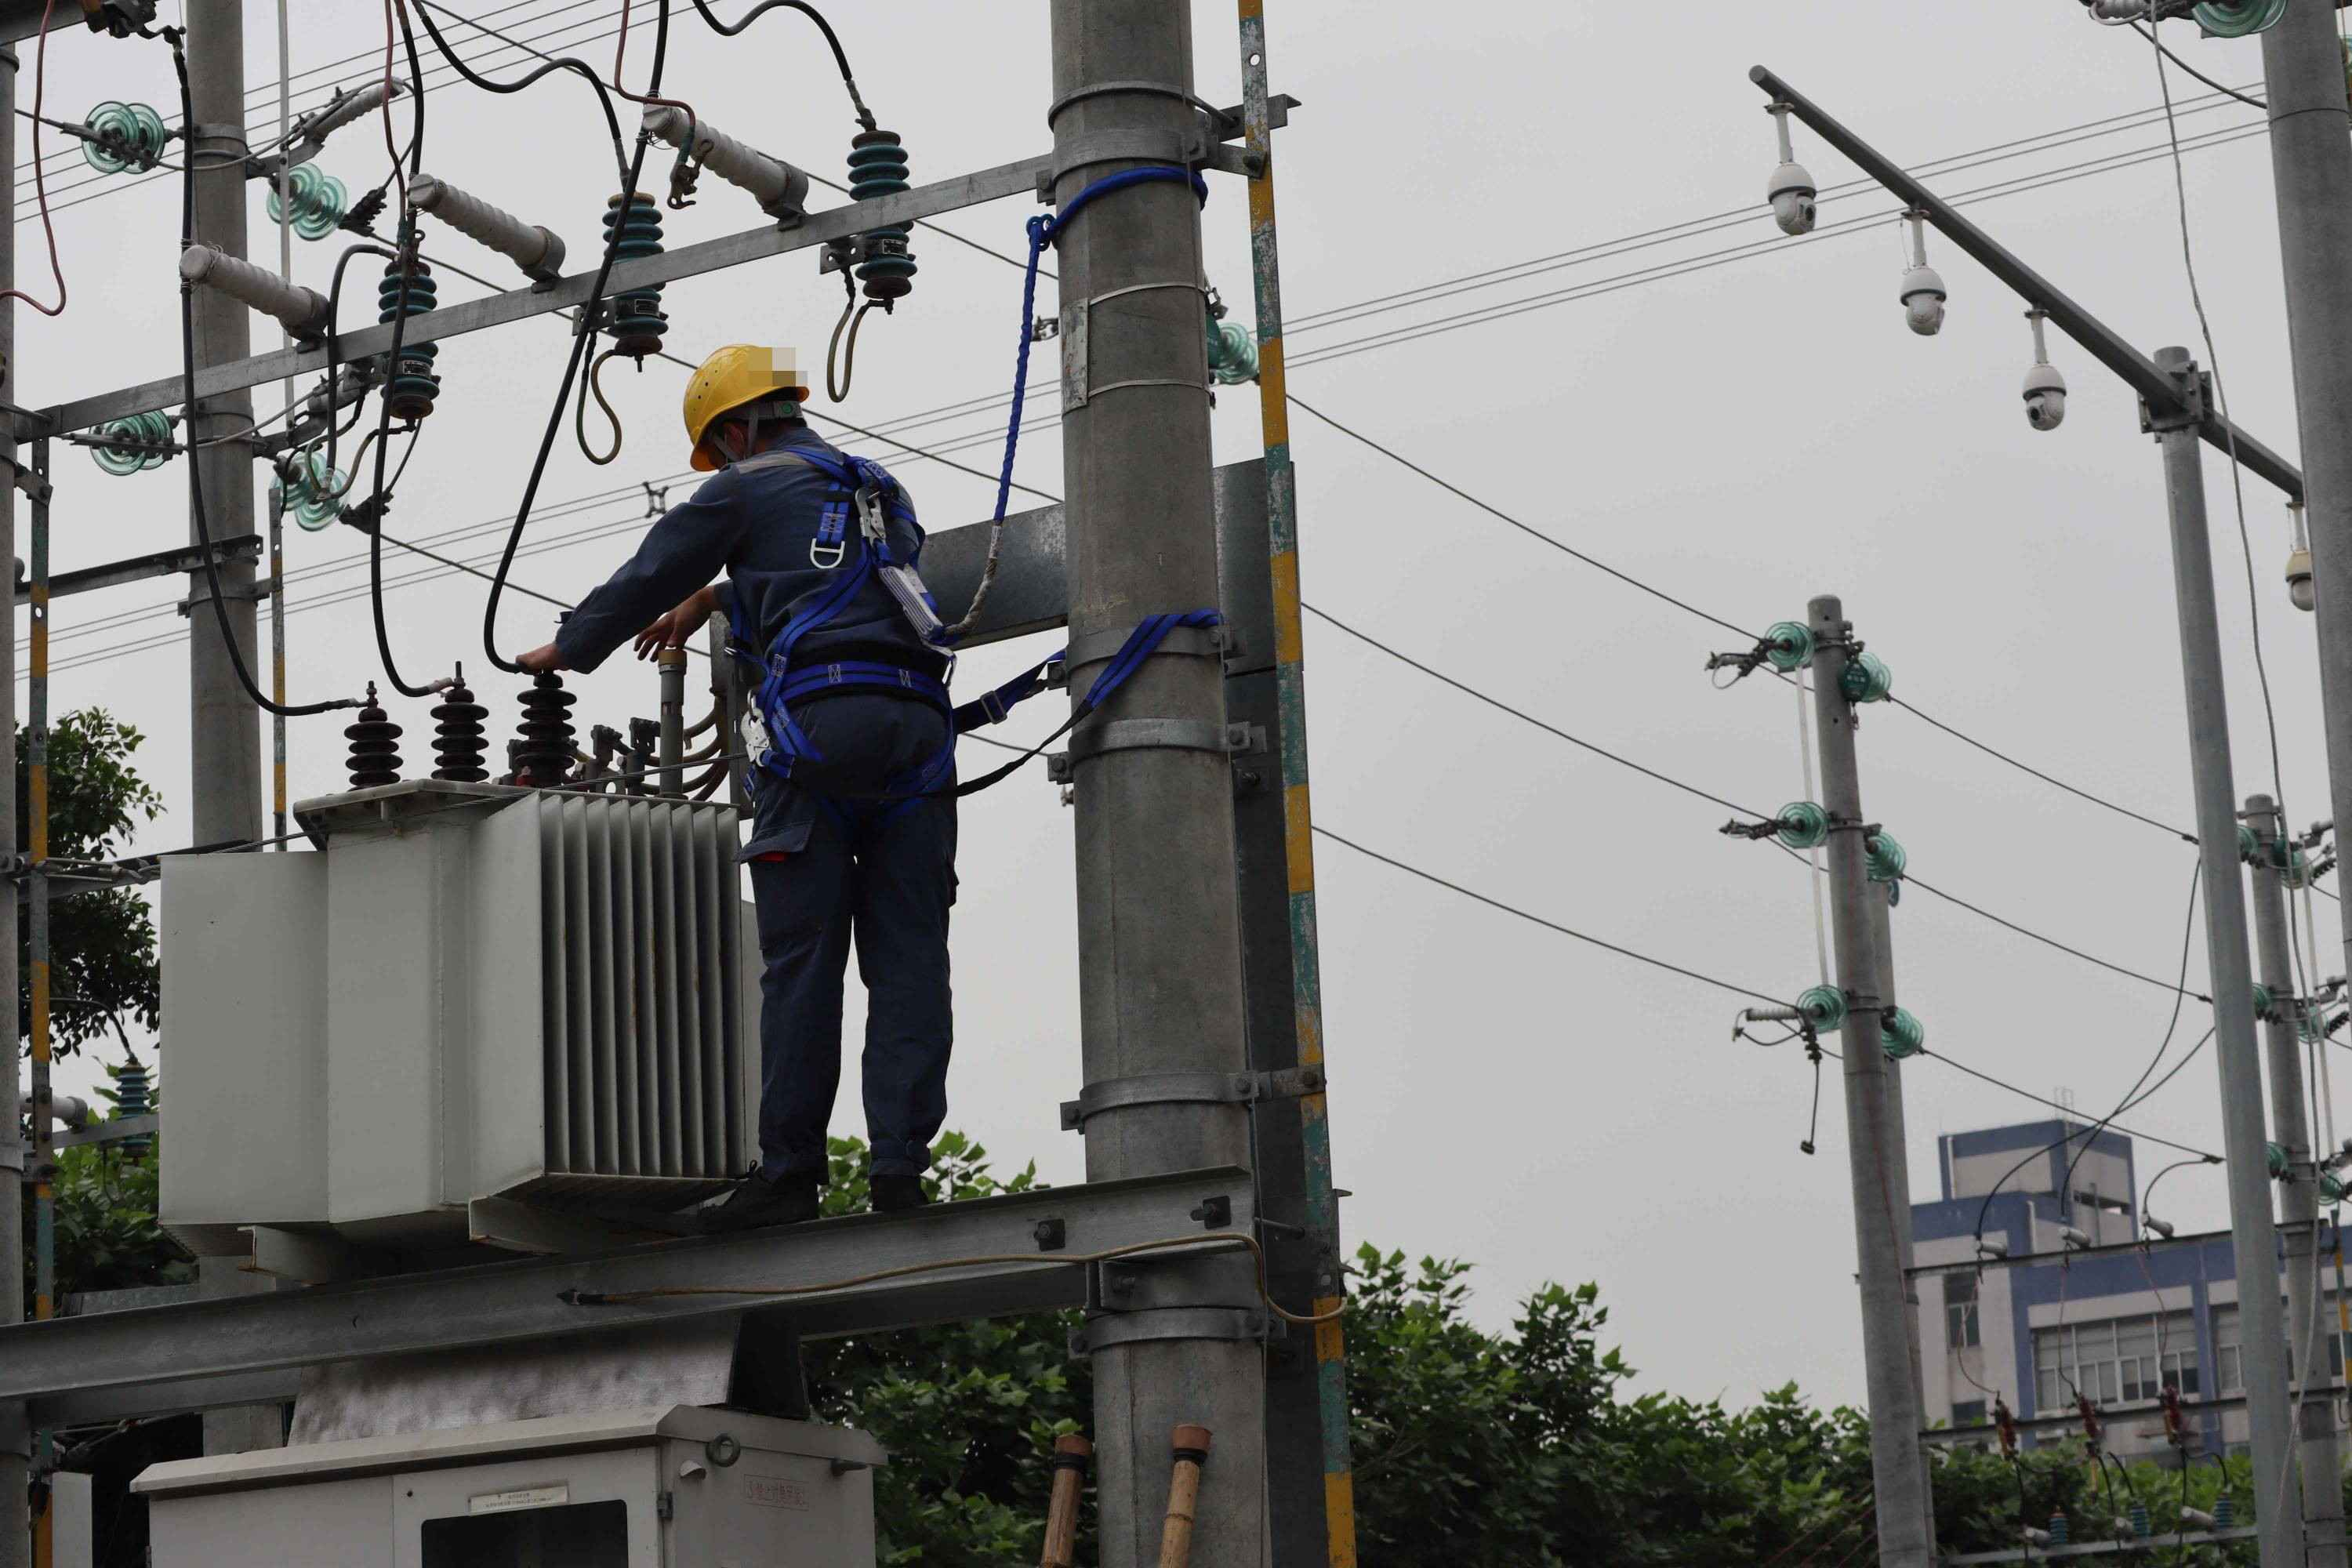downsuit: (735, 702, 968, 1172)
upsuit: (565, 439, 940, 690)
